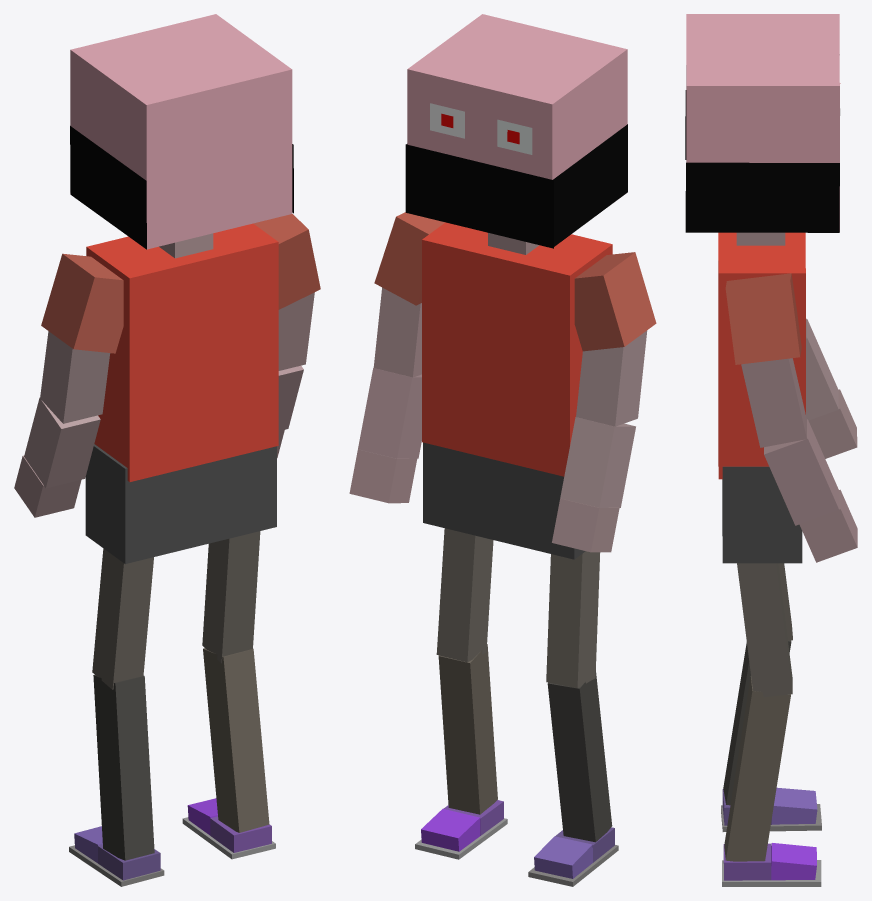
3 views of the same model, side by side, from view 1: azimuth 30°, elevation 25°; view 2: azimuth 150°, elevation 25°; view 3: azimuth 270°, elevation 25° (orthographic).
Parts seen in each view (by area): view 1: MC 1; view 2: MC 1; view 3: MC 1.
Part boxes in pixels (bbox=[...]): MC 1: bbox=[14, 14, 320, 886]; MC 1: bbox=[349, 14, 656, 886]; MC 1: bbox=[685, 14, 857, 886].
Size of the model in its own units: 1.16 by 3.5 by 0.6831.
